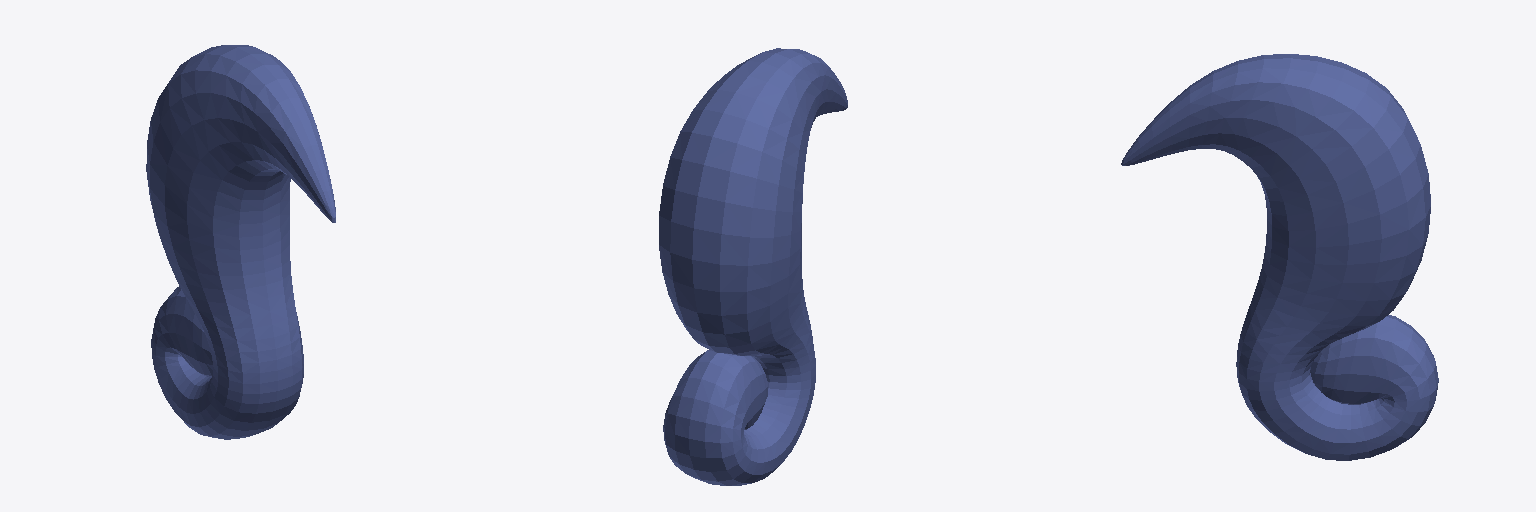
File: snowdrop_tail.obj
3 views of the same model, side by side, from view 1: azimuth 30°, elevation 25°; view 2: azimuth 150°, elevation 25°; view 3: azimuth 270°, elevation 25° (orthographic).
Parts seen in each view (by area): view 1: vn_snowdrop_tail_snowdrop; view 2: vn_snowdrop_tail_snowdrop; view 3: vn_snowdrop_tail_snowdrop.
Part boxes in pixels (x1,y1,x2,y2): vn_snowdrop_tail_snowdrop: (146,45,335,439); vn_snowdrop_tail_snowdrop: (659,48,847,485); vn_snowdrop_tail_snowdrop: (1121,54,1438,460).
Bounding box in the file's own units: 5.6 × 18.47 × 13.45.